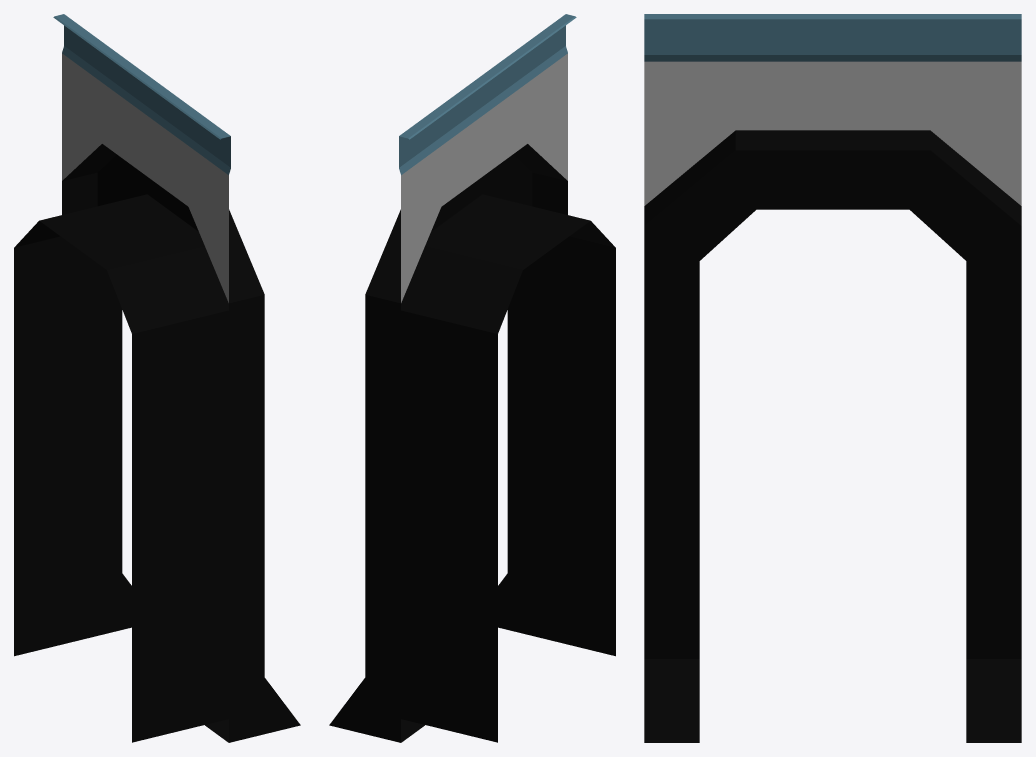
The model's file is SM_DoorTile.fbx.
3 renders of one model, left to right at view 1: azimuth 30°, elevation 25°; view 2: azimuth 150°, elevation 25°; view 3: azimuth 270°, elevation 25°, orthographic. The views are drawn at different scales.
Parts seen in each view (by area): view 1: SM_DoorTile; view 2: SM_DoorTile; view 3: SM_DoorTile.
Boxes of the visible parts, x1=… form: SM_DoorTile: x1=14, y1=14, x2=300, y2=742; SM_DoorTile: x1=329, y1=14, x2=615, y2=742; SM_DoorTile: x1=644, y1=14, x2=1021, y2=742.
Size of what is drawn, in the model's own units: 99.84 by 401 by 200.
